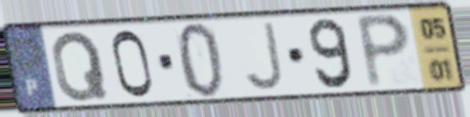0: (174, 20, 226, 100), (109, 27, 155, 100)
9: (308, 16, 355, 91)
J: (241, 19, 286, 93)
P: (353, 12, 414, 91)
Q: (49, 28, 111, 104)
